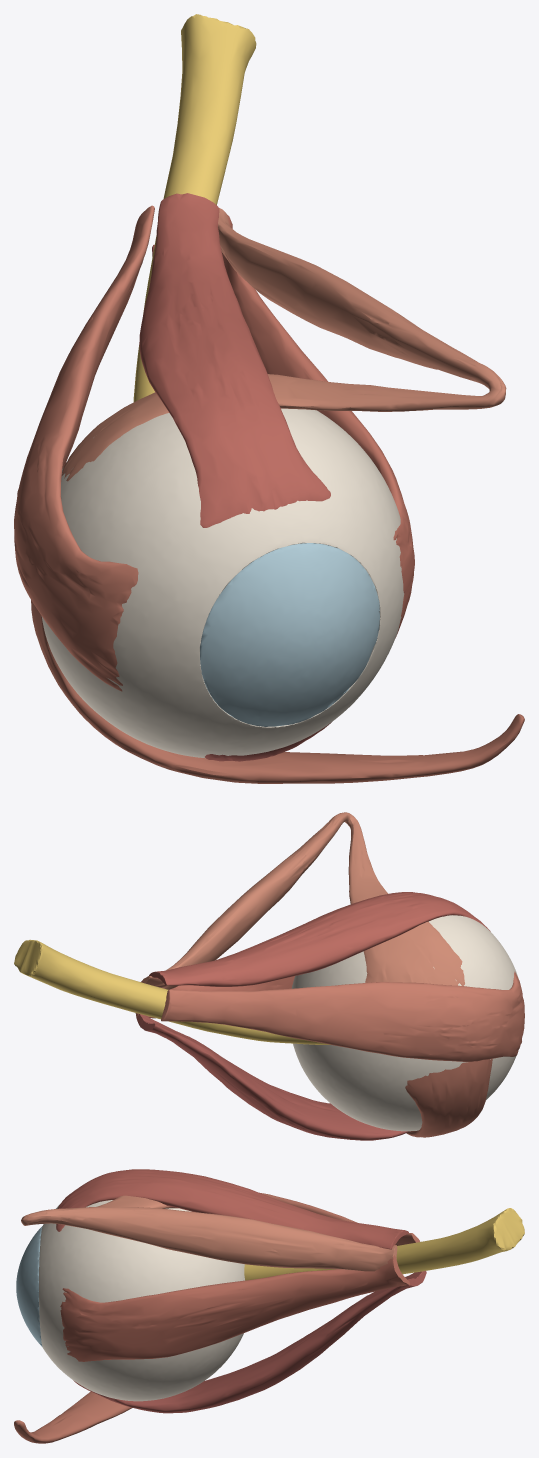
The model's file is eye.glb.
The picture shows the model from 3 angles, top to bottom: view 1: azimuth 30°, elevation 25°; view 2: azimuth 150°, elevation 25°; view 3: azimuth 270°, elevation 25°; orthographic projection. The views are drawn at different scales.
Visible parts, largest first — view 1: sclera, superior-rectus, cornea, lateral-rectus, superior-oblique, optic-nerve, inferior-oblique, medial-rectus; view 2: lateral-rectus, sclera, superior-oblique, superior-rectus, optic-nerve, inferior-rectus, inferior-oblique, medial-rectus; view 3: sclera, medial-rectus, superior-oblique, superior-rectus, inferior-rectus, optic-nerve, inferior-oblique, cornea, lateral-rectus.
Part boxes in pixels (bbox=[...]): sclera: bbox=[41, 408, 404, 758]; superior-rectus: bbox=[139, 193, 330, 527]; cornea: bbox=[200, 543, 379, 726]; lateral-rectus: bbox=[14, 205, 154, 691]; superior-oblique: bbox=[61, 208, 506, 481]; optic-nerve: bbox=[133, 14, 256, 401]; inferior-oblique: bbox=[31, 600, 524, 783]; medial-rectus: bbox=[221, 215, 414, 638]; lateral-rectus: bbox=[161, 971, 524, 1061]; sclera: bbox=[291, 915, 517, 1131]; superior-oblique: bbox=[143, 812, 464, 989]; superior-rectus: bbox=[149, 892, 490, 986]; optic-nerve: bbox=[14, 939, 330, 1044]; inferior-rectus: bbox=[136, 1013, 408, 1140]; inferior-oblique: bbox=[405, 1058, 492, 1137]; medial-rectus: bbox=[135, 976, 294, 1018]; sclera: bbox=[38, 1200, 244, 1401]; medial-rectus: bbox=[60, 1255, 409, 1361]; superior-oblique: bbox=[21, 1195, 397, 1271]; superior-rectus: bbox=[56, 1169, 408, 1249]; inferior-rectus: bbox=[73, 1271, 426, 1413]; optic-nerve: bbox=[244, 1208, 524, 1280]; inferior-oblique: bbox=[14, 1391, 132, 1443]; cornea: bbox=[16, 1226, 42, 1346]; lateral-rectus: bbox=[259, 1192, 420, 1245].
Bounding box in the file's own units: 4.03 × 3.54 × 5.85.
